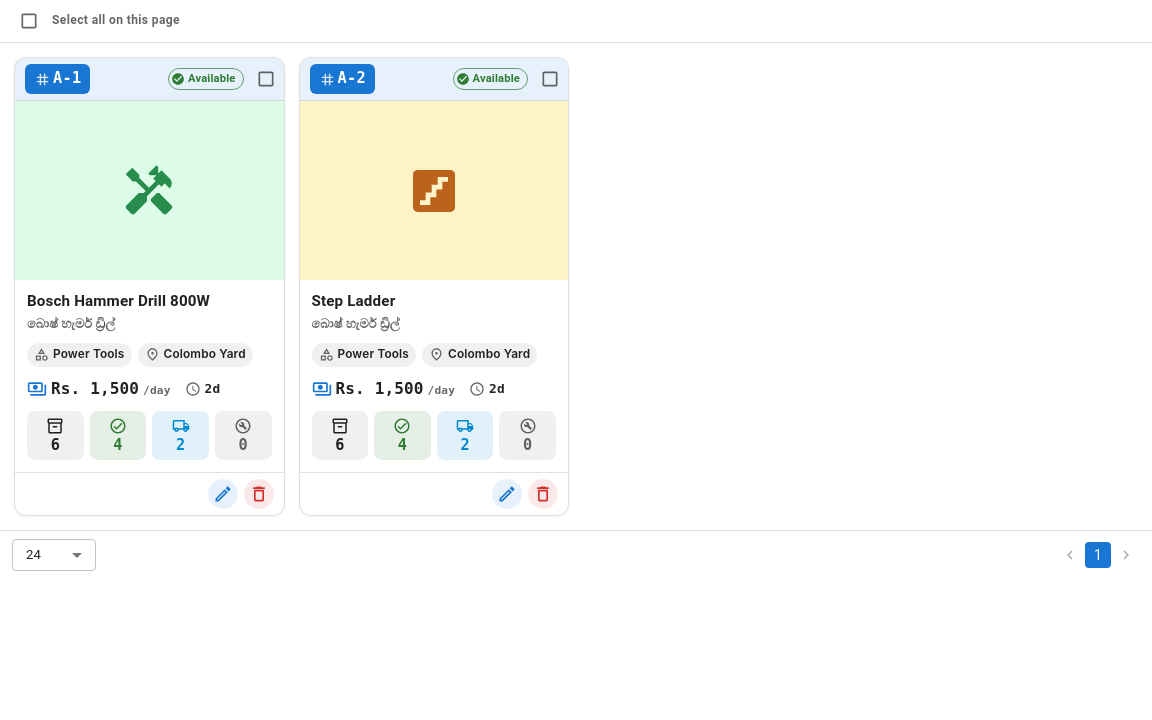
Test: EquipmentCardGrid › asks before deleting
Click the button named "Delete" below "Bosch Hammer Drill 800W" at (258, 494), box [244,479,274,509]
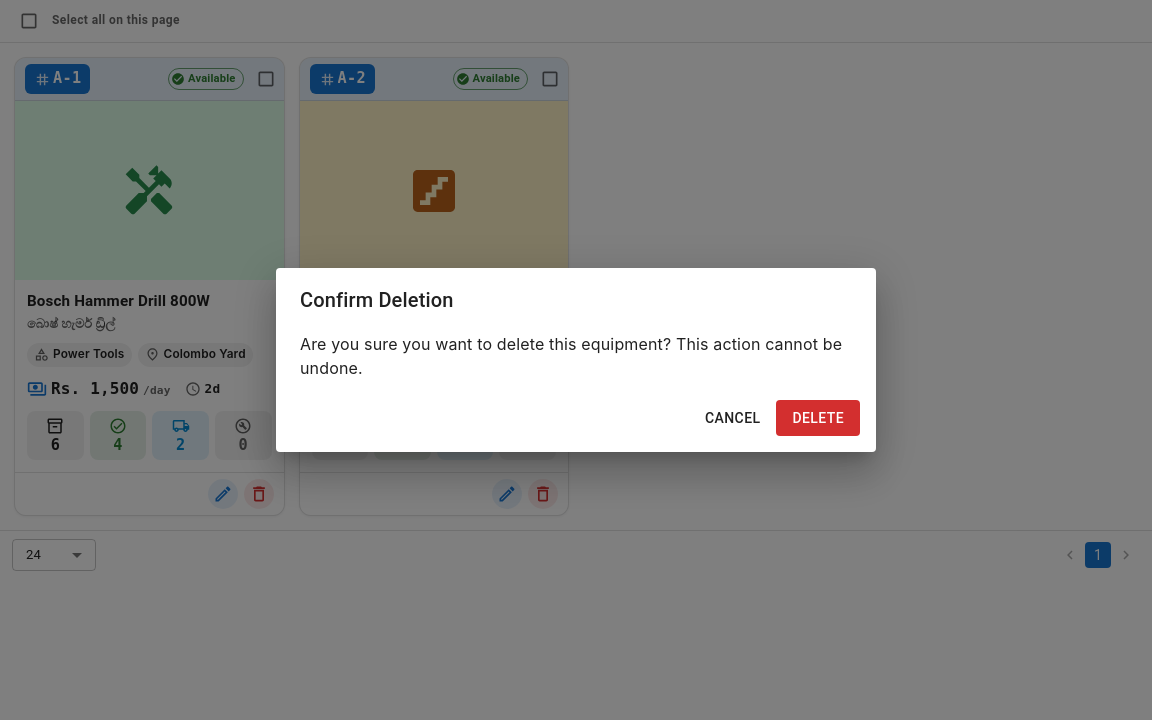
Expected: the dialog is shown, [276,268,876,452]
